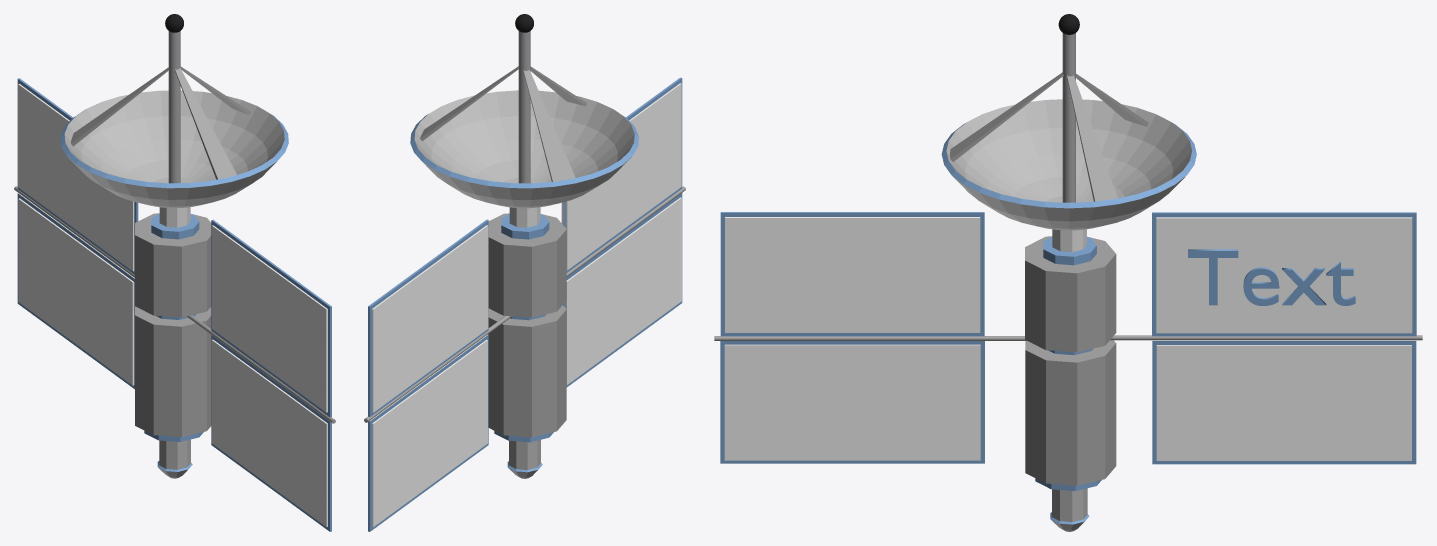
Rendered from palidov.gltf.
The picture shows the model from 3 angles, left to right: view 1: azimuth 30°, elevation 25°; view 2: azimuth 150°, elevation 25°; view 3: azimuth 270°, elevation 25°; orthographic projection. The views are drawn at different scales.
Parts seen in each view (by area): view 1: Cylinder.001; view 2: Cylinder.001; view 3: Cylinder.001.
Boxes of the visible parts, box(x1,y1,x2,y2) form: Cylinder.001: box(14, 14, 335, 531); Cylinder.001: box(364, 14, 685, 531); Cylinder.001: box(714, 14, 1422, 531).
Size of the model in its own units: 1.66 by 3.7 by 4.62.
